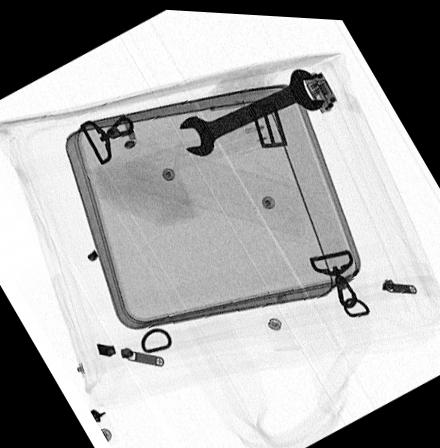Wrench: (177, 65, 326, 156)
